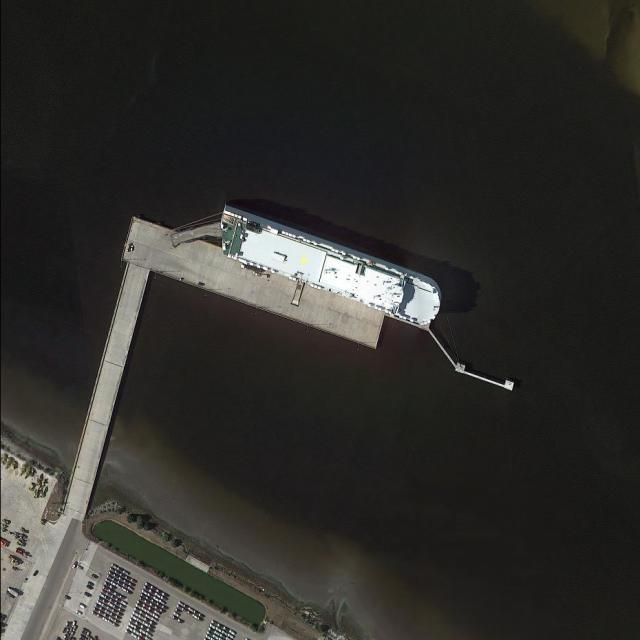Dock: (118, 216, 396, 350)
RoRo: (204, 203, 448, 332)
